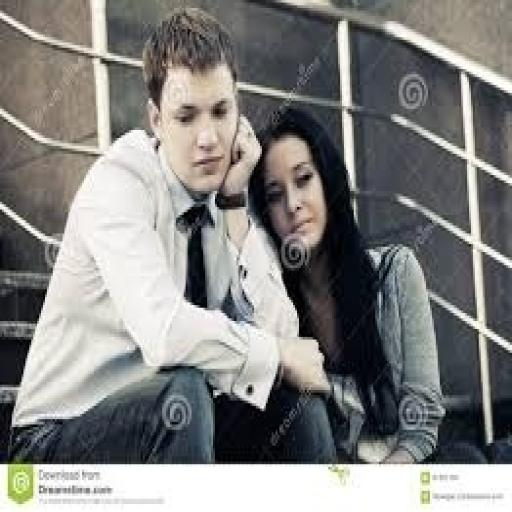sitting: (6, 6, 336, 464), (244, 104, 446, 464)
